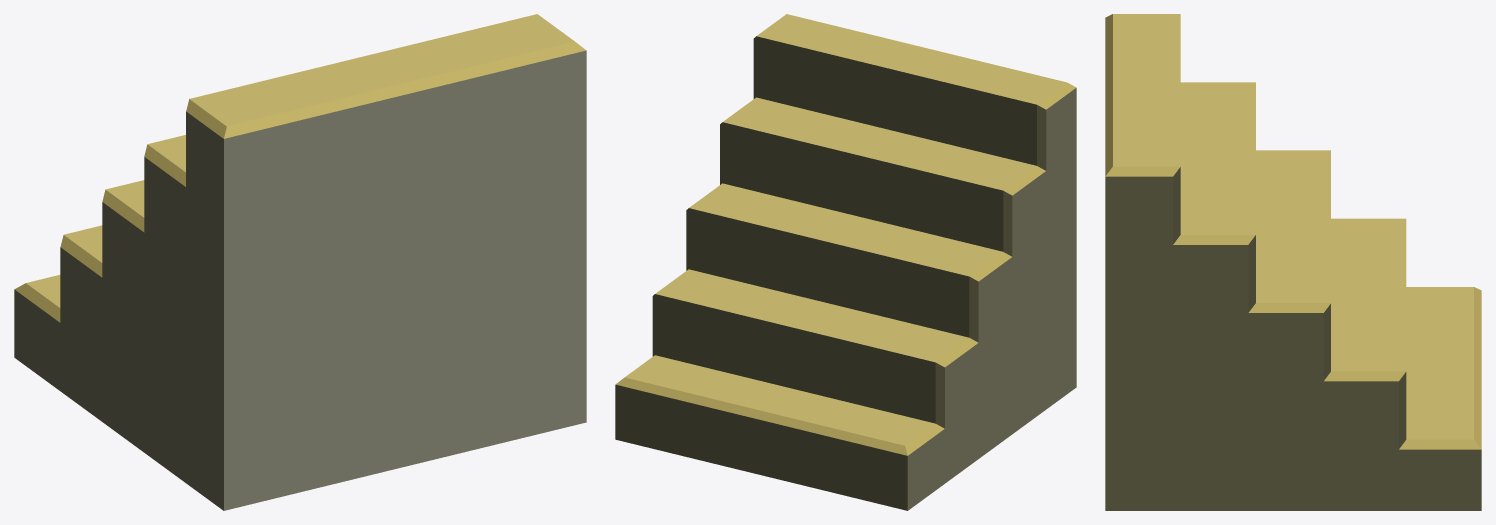
The model's file is sand steps_S.FBX.
3 views of the same model, side by side, from view 1: azimuth 30°, elevation 25°; view 2: azimuth 150°, elevation 25°; view 3: azimuth 270°, elevation 25° (orthographic). The views are drawn at different scales.
Visible parts, largest first — view 1: sand steps_S; view 2: sand steps_S; view 3: sand steps_S.
Boxes of the visible parts, x1,y1,x2,y2 form: sand steps_S: (14,14,586,510); sand steps_S: (615,14,1076,510); sand steps_S: (1105,14,1481,510).
Bounding box in the file's own units: 100 × 100 × 100.
